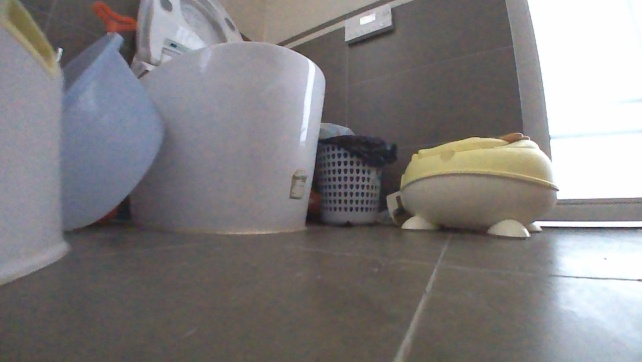toilet: (117, 0, 331, 238)
